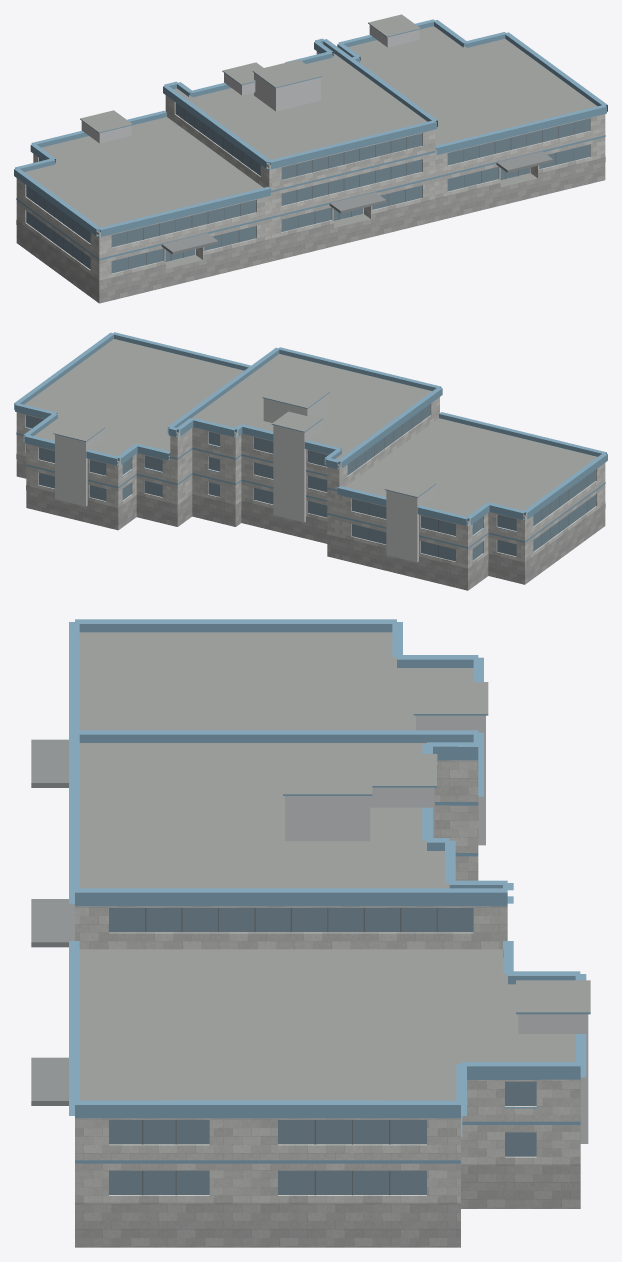
3 renders of one model, top to bottom at view 1: azimuth 30°, elevation 25°; view 2: azimuth 150°, elevation 25°; view 3: azimuth 270°, elevation 25°, orthographic. The views are drawn at different scales.
Parts seen in each view (by area): view 1: satelliteCenterE13__roof, satelliteCenterE13__wall, satelliteCenterE13__glass, satelliteCenterE13__trim, satelliteCenterE13__base, satelliteCenterE13__wall2, satelliteCenterE13__canopy, satelliteCenterE13__frame; view 2: satelliteCenterE13__roof, satelliteCenterE13__wall, satelliteCenterE13__trim, satelliteCenterE13__base, satelliteCenterE13__wall2, satelliteCenterE13__glass; view 3: satelliteCenterE13__roof, satelliteCenterE13__wall, satelliteCenterE13__trim, satelliteCenterE13__base, satelliteCenterE13__glass, satelliteCenterE13__wall2, satelliteCenterE13__canopy, satelliteCenterE13__frame.
Part boxes in pixels (x1,y1,x2,y2): satelliteCenterE13__roof: (24,14,596,268); satelliteCenterE13__wall: (16,51,605,285); satelliteCenterE13__glass: (26,103,590,273); satelliteCenterE13__trim: (14,19,607,260); satelliteCenterE13__base: (16,157,605,303); satelliteCenterE13__wall2: (81,25,419,143); satelliteCenterE13__canopy: (161,151,553,254); satelliteCenterE13__frame: (35,109,574,269); satelliteCenterE13__roof: (24,339,597,522); satelliteCenterE13__wall: (16,397,605,572); satelliteCenterE13__trim: (14,332,607,548); satelliteCenterE13__base: (16,454,605,590); satelliteCenterE13__wall2: (55,394,434,562); satelliteCenterE13__glass: (26,404,595,561); satelliteCenterE13__roof: (79,632,590,1100); satelliteCenterE13__wall: (75,760,580,1202); satelliteCenterE13__trim: (69,619,590,1163); satelliteCenterE13__base: (75,1164,580,1247); satelliteCenterE13__glass: (109,908,536,1194); satelliteCenterE13__wall2: (285,715,588,1143); satelliteCenterE13__canopy: (31,739,74,1105); satelliteCenterE13__frame: (142,908,437,1195).
Size of the model in its own units: 73.93 by 16.7 by 35.99.
9 materials, 2 textured.
